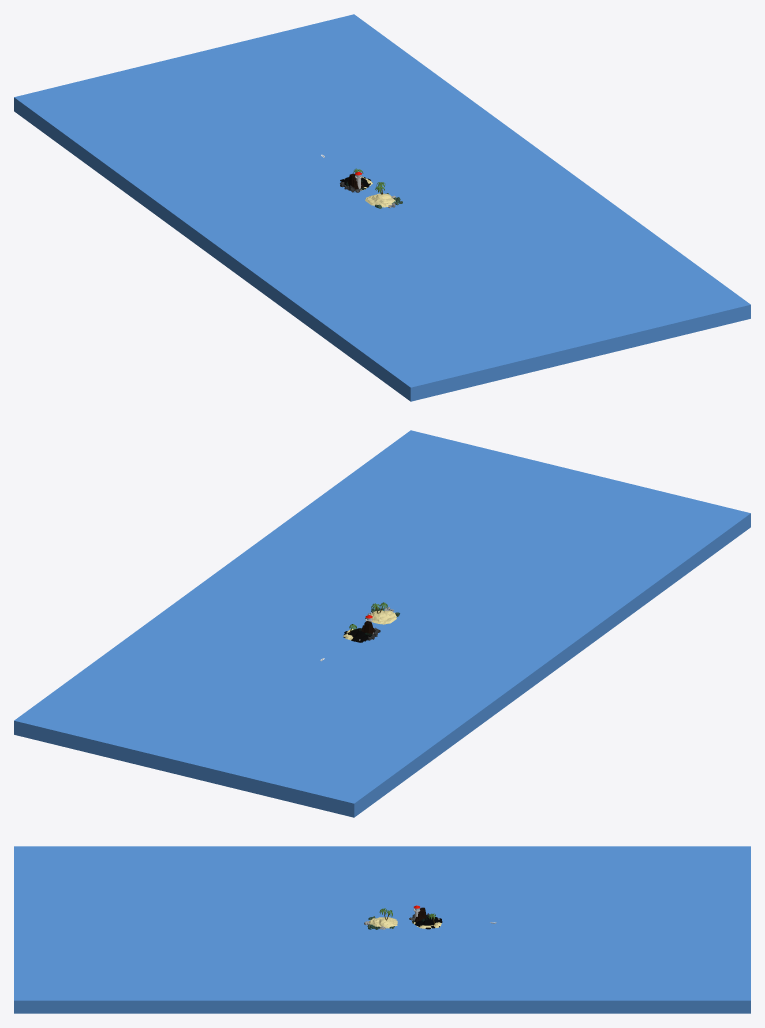
The model's file is island_middle.glb.
3 views of the same model, one above another, from view 1: azimuth 30°, elevation 25°; view 2: azimuth 150°, elevation 25°; view 3: azimuth 270°, elevation 25° (orthographic). The views are drawn at different scales.
Parts seen in each view (by area): view 1: 平面; view 2: 平面; view 3: 平面.
Part boxes in pixels (bbox=[...]): 平面: bbox=[14, 14, 750, 401]; 平面: bbox=[14, 430, 750, 817]; 平面: bbox=[14, 846, 750, 1013].
Size of the model in its own units: 261 by 23.04 by 528.
Materials: 31 (9 with a texture image).
